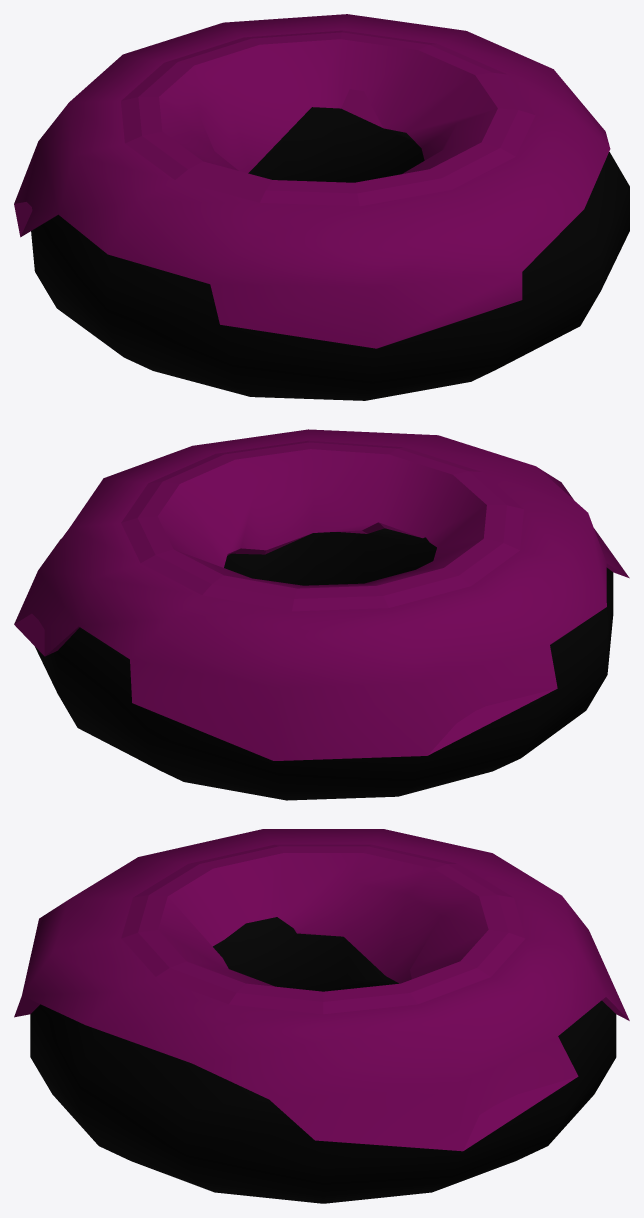
Rendered from Donut.fbx.
3 views of the same model, one above another, from view 1: azimuth 30°, elevation 25°; view 2: azimuth 150°, elevation 25°; view 3: azimuth 270°, elevation 25° (orthographic). The views are drawn at different scales.
Parts seen in each view (by area): view 1: pTorus1; view 2: pTorus1; view 3: pTorus1.
Boxes of the visible parts, bbox=[...] form: pTorus1: bbox=[14, 14, 629, 400]; pTorus1: bbox=[14, 429, 629, 800]; pTorus1: bbox=[14, 829, 629, 1203].
Size of the model in its own units: 0.0389 by 0.0132 by 0.0389.
